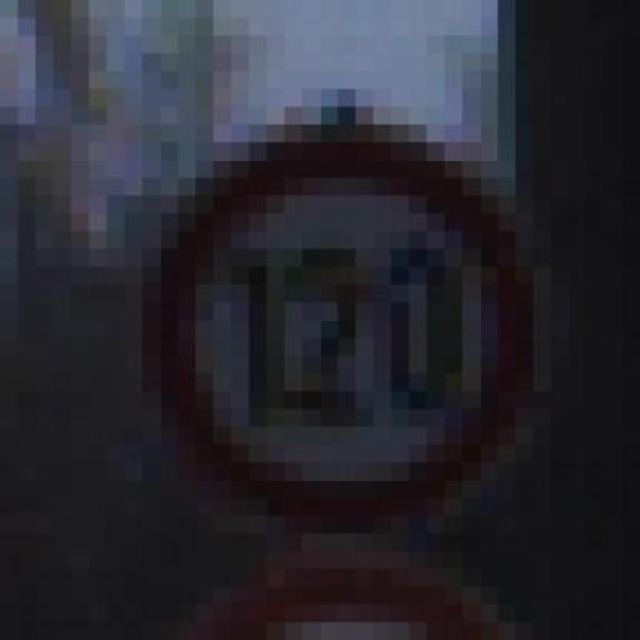forb_speed_over_120: (153, 137, 538, 529)
